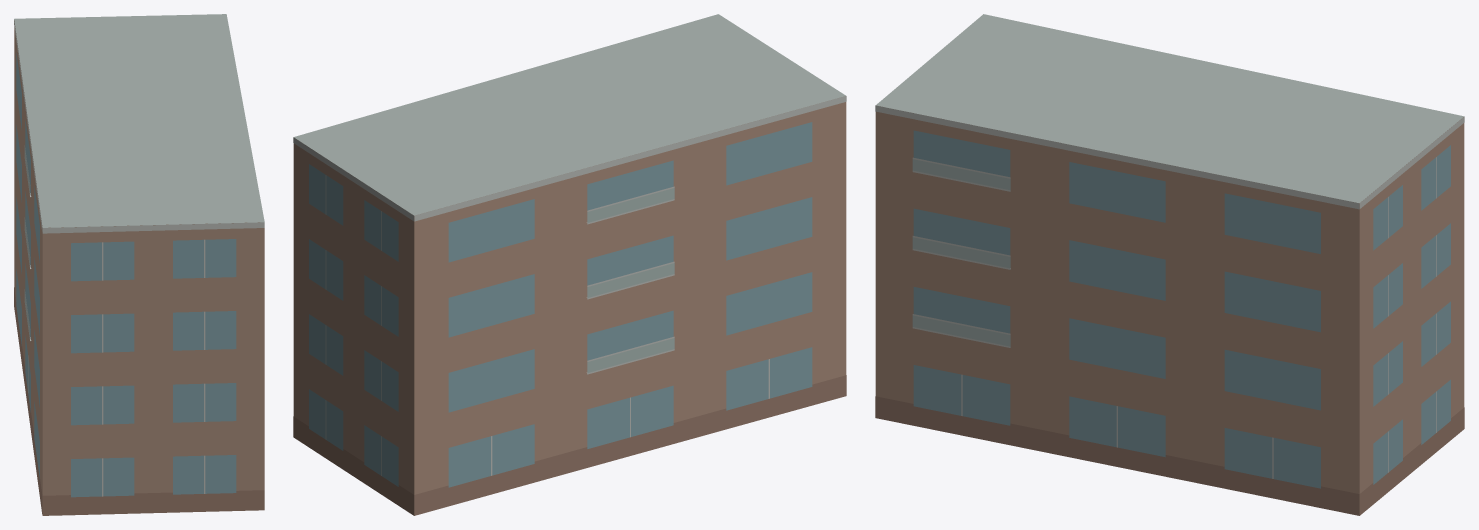
Rendered from survey-upis-32885233.glb.
3 renders of one model, left to right at view 1: azimuth 30°, elevation 25°; view 2: azimuth 150°, elevation 25°; view 3: azimuth 270°, elevation 25°, orthographic. The views are drawn at different scales.
Visible parts, largest first — view 1: survey-upis-32885233.tmp; view 2: survey-upis-32885233.tmp; view 3: survey-upis-32885233.tmp.
Boxes of the visible parts, x1,y1,x2,y2 form: survey-upis-32885233.tmp: (14,14,264,515); survey-upis-32885233.tmp: (293,14,846,515); survey-upis-32885233.tmp: (875,14,1464,515).
Size of the model in its own units: 16.11 by 12.4 by 21.18.
